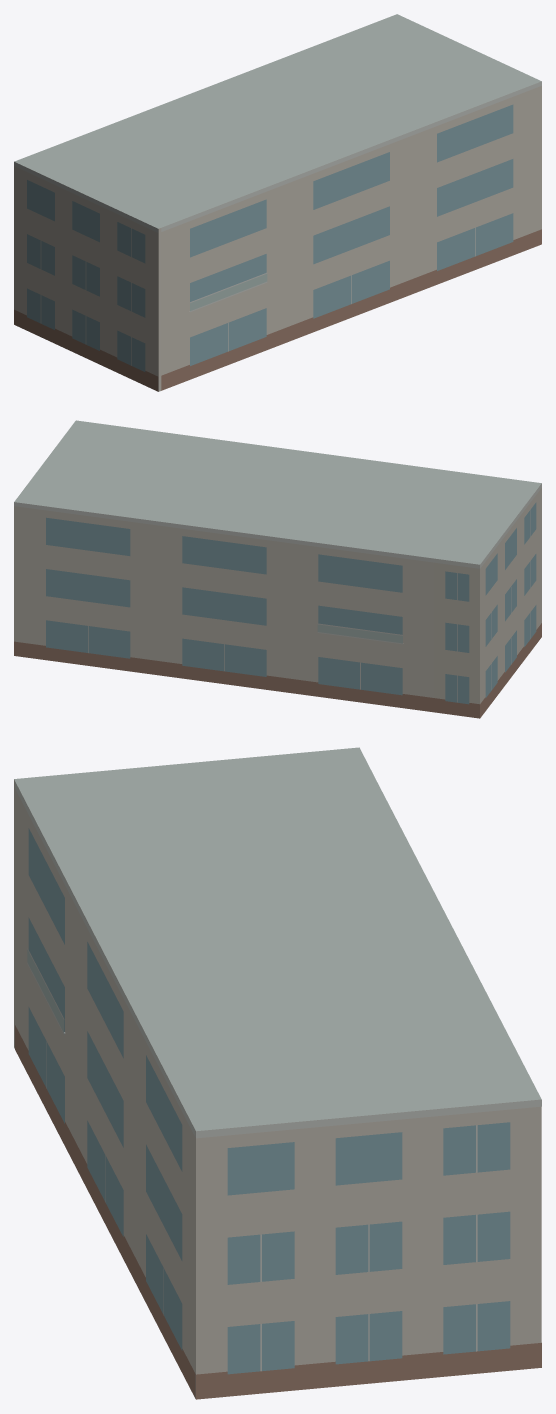
The model's file is survey-upis-32831326.glb.
3 renders of one model, top to bottom at view 1: azimuth 30°, elevation 25°; view 2: azimuth 150°, elevation 25°; view 3: azimuth 270°, elevation 25°, orthographic. The views are drawn at different scales.
Parts seen in each view (by area): view 1: survey-upis-32831326.tmp; view 2: survey-upis-32831326.tmp; view 3: survey-upis-32831326.tmp.
Part boxes in pixels (x1,y1,x2,y2): survey-upis-32831326.tmp: (14, 14, 541, 391); survey-upis-32831326.tmp: (14, 420, 541, 718); survey-upis-32831326.tmp: (14, 747, 541, 1399).
Size of the model in its own units: 28.09 by 9.15 by 16.32.
